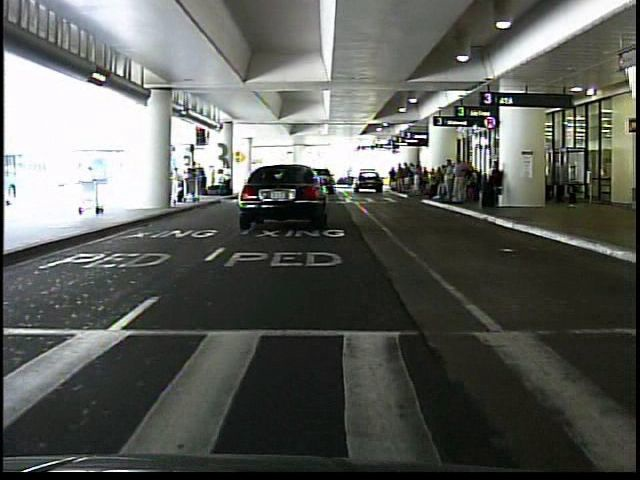person: (450, 152, 471, 210), (168, 162, 188, 214)
